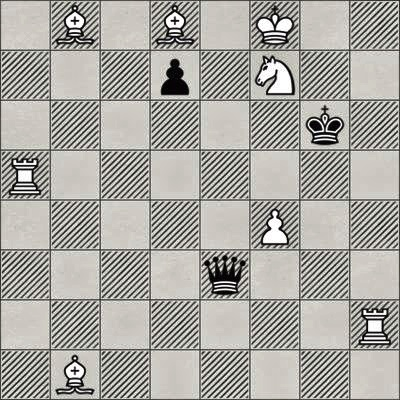black-king: (300, 100, 350, 150)
black-pawn: (150, 50, 200, 100)
black-queen: (200, 250, 250, 300)
white-bishop: (50, 0, 100, 50), (150, 0, 200, 50), (50, 350, 100, 400)
white-king: (250, 0, 300, 50)
white-knight: (250, 50, 300, 100)
white-pawn: (250, 200, 300, 250)
white-rook: (0, 150, 50, 200), (350, 300, 400, 350)
